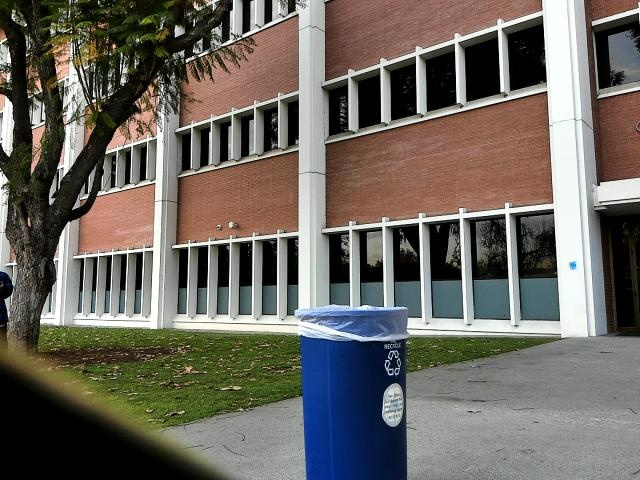trashcan_open: (291, 299, 419, 480)
